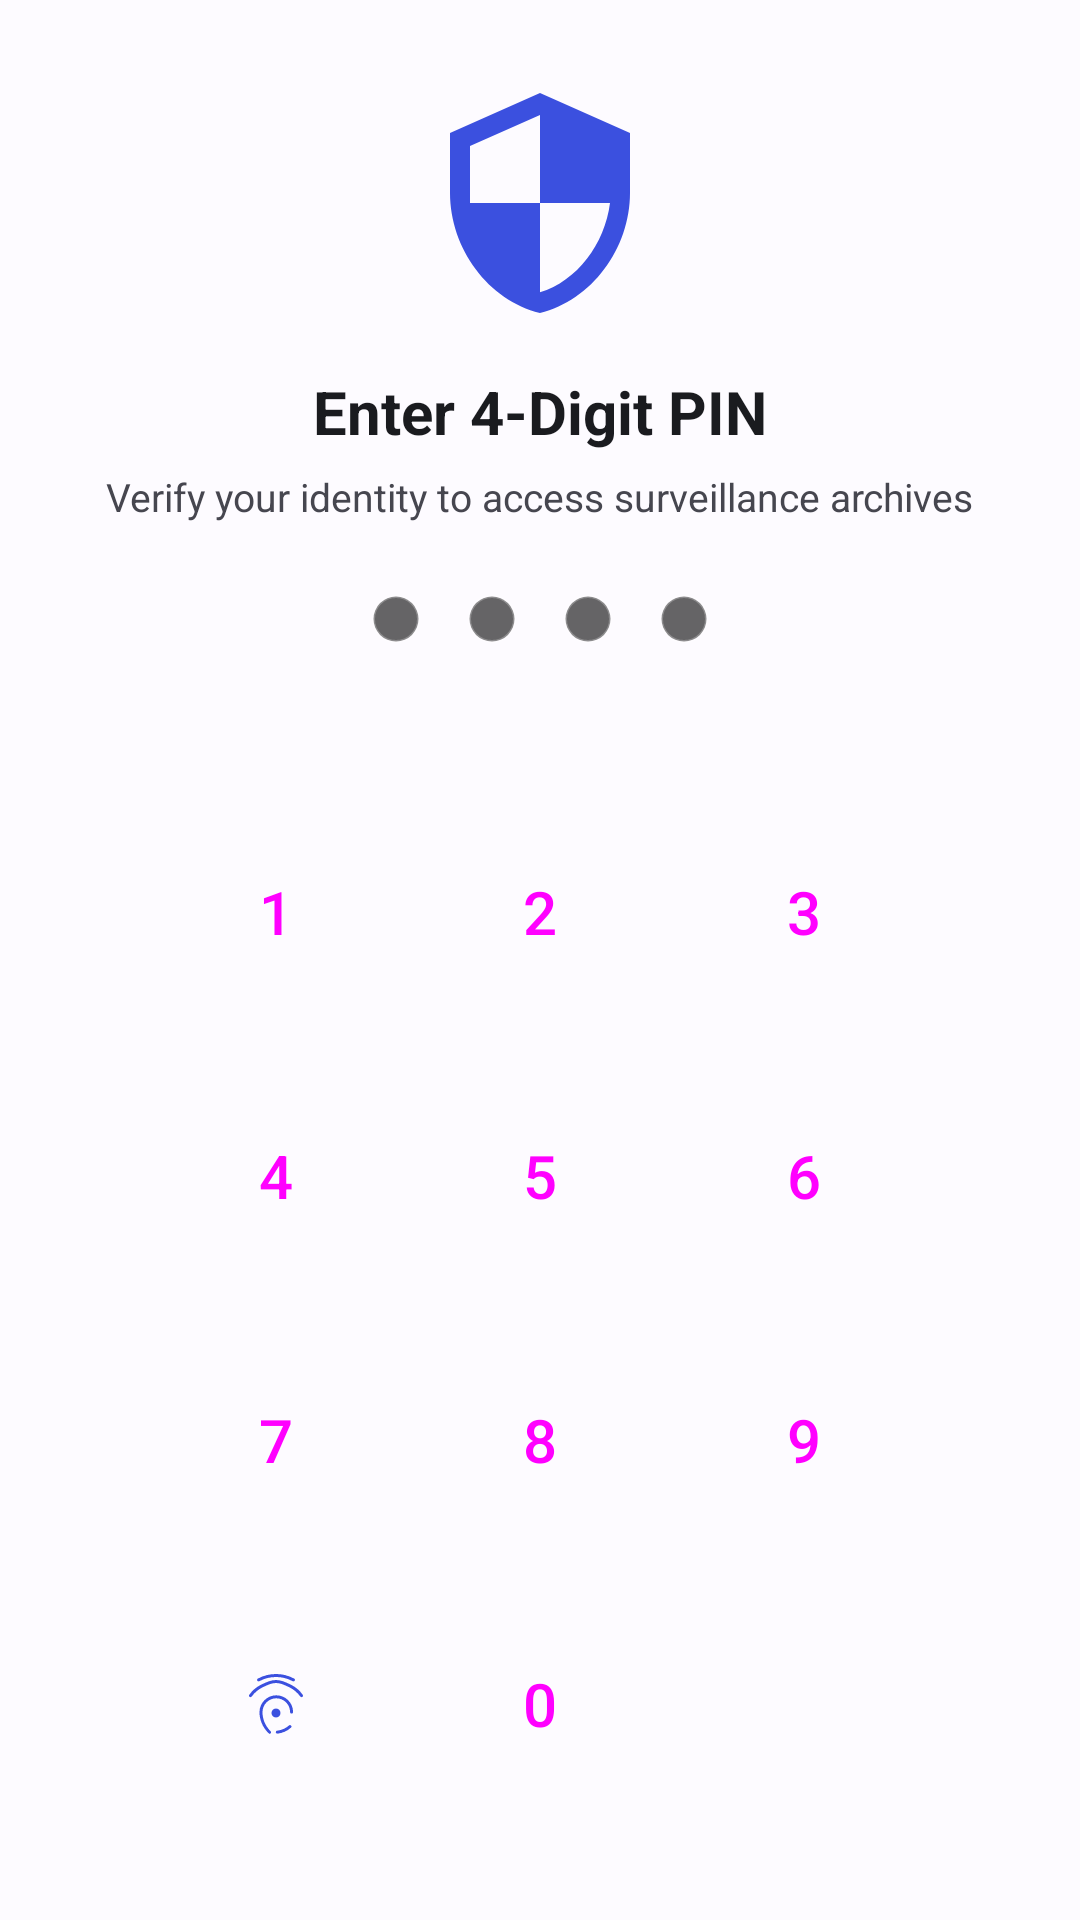

Icons on this 1080 × 1920 Android screen, each with the point to tap as point (x, y):
Security Authentication: point (540, 203)
Use fingerprint or face recognition: point (276, 1704)
